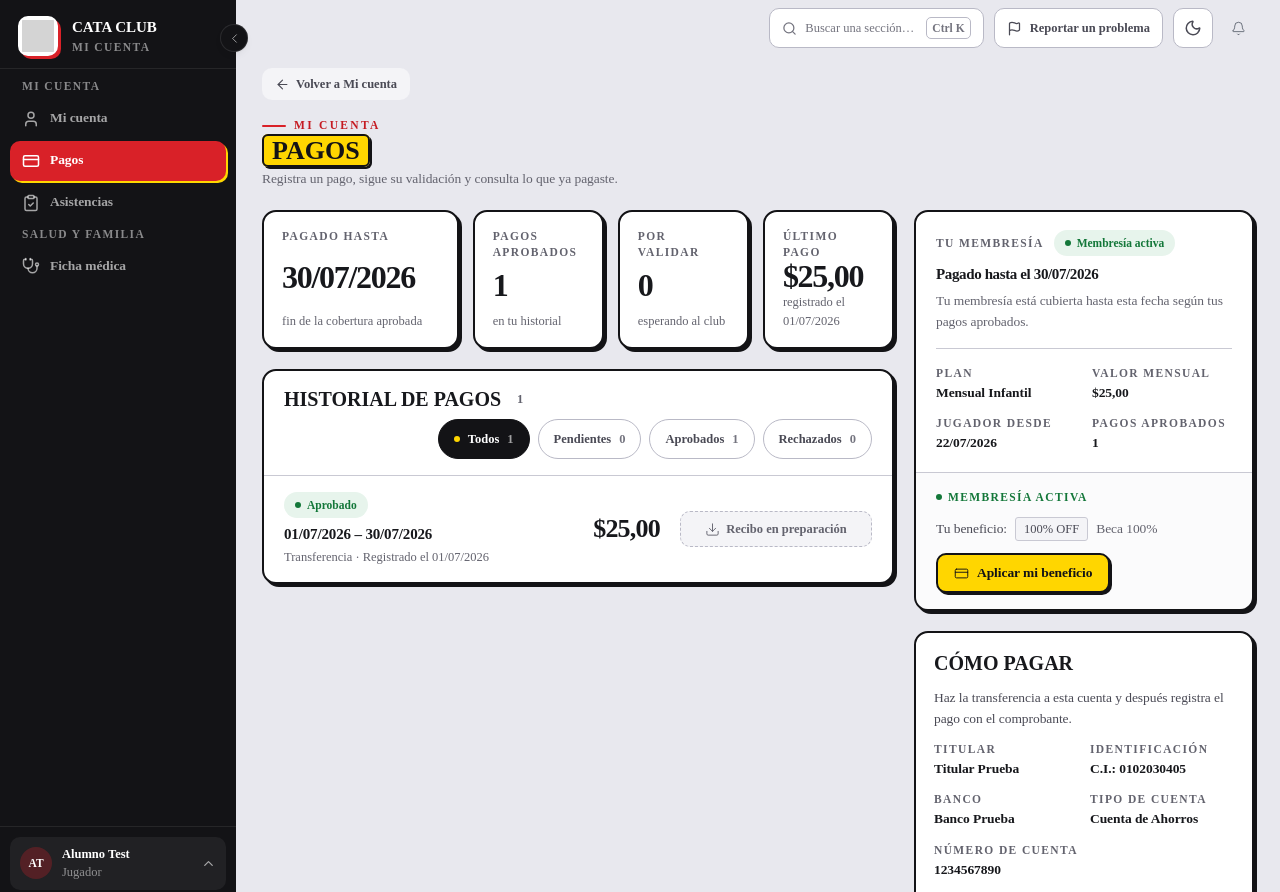
Test: StudentPaymentsPage — the club's benefit, read before paying › replaces the payment form with ApplyBenefitForm when the benefit is 100%, with no monto or voucher field
Expected: the text "100% OFF" is shown, 1015,517 -> 1088,542
Click the button "Aplicar mi beneficio": click(1023, 573) 936,553 -> 1110,593
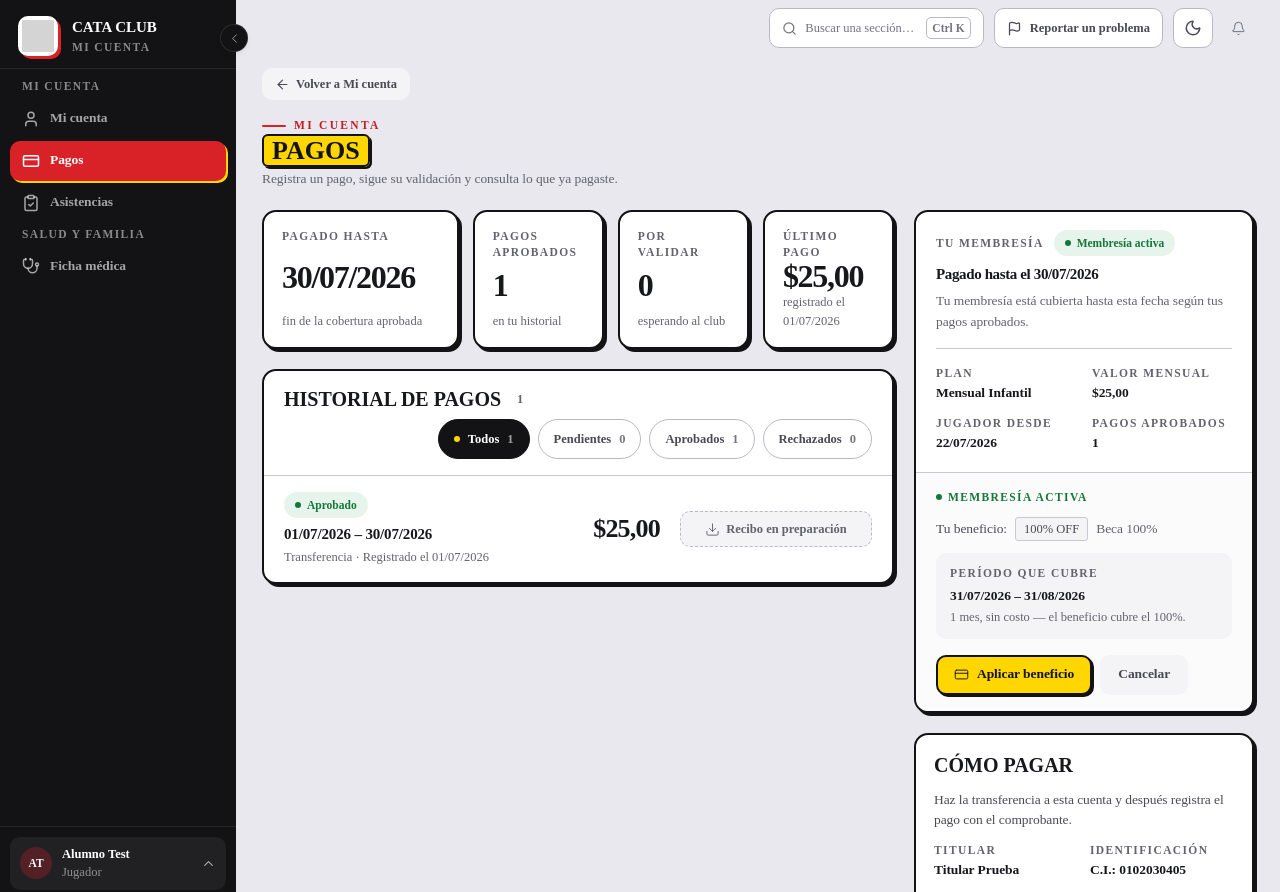
Expected: the text "1 mes, sin costo — el beneficio cubre el 100%." is shown, 950,608 -> 1218,627
